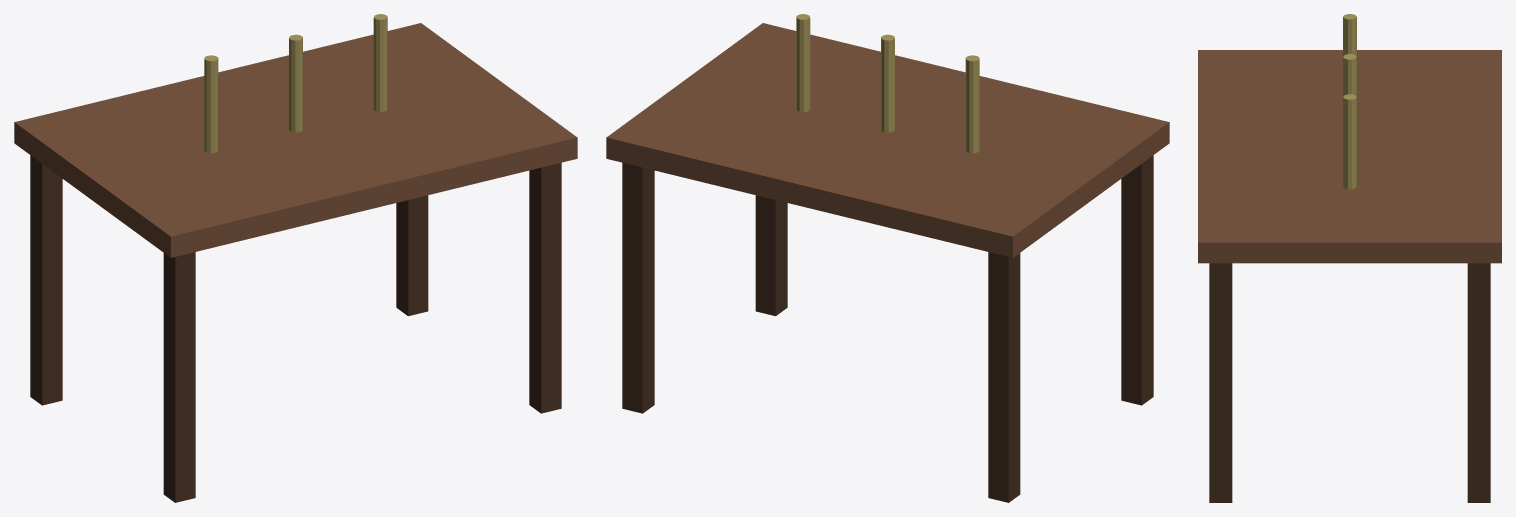
File: station_workbench.glb
3 views of the same model, side by side, from view 1: azimuth 30°, elevation 25°; view 2: azimuth 150°, elevation 25°; view 3: azimuth 270°, elevation 25° (orthographic). The views are drawn at different scales.
Visible parts, largest first — view 1: STATION_Workbench; view 2: STATION_Workbench; view 3: STATION_Workbench.
Part boxes in pixels (x1,y1,x2,y2): STATION_Workbench: (14, 14, 577, 502); STATION_Workbench: (606, 14, 1169, 502); STATION_Workbench: (1198, 14, 1501, 502).
Bounding box in the file's own units: 1.2 × 1.03 × 0.8.
